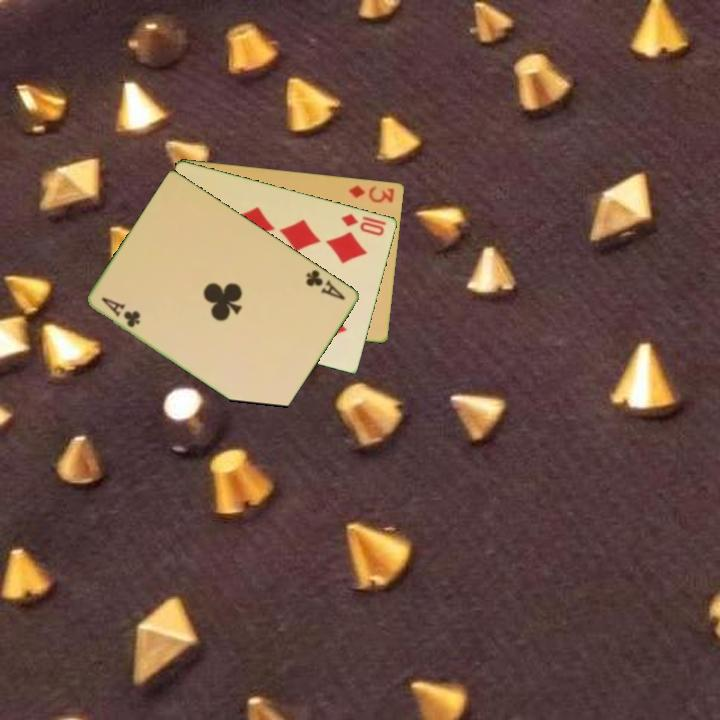10d: (338, 210, 387, 239)
3d: (346, 181, 397, 206)
Ac: (98, 293, 144, 331), (302, 266, 349, 303)
